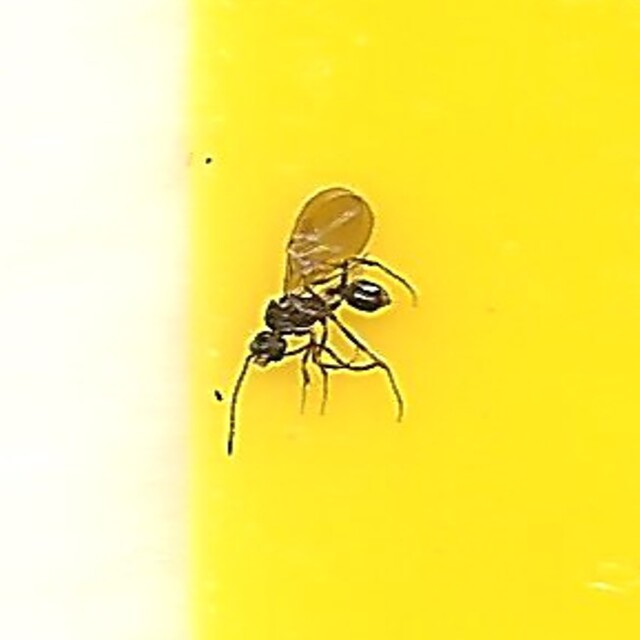Hymenoptera: (221, 186, 419, 454)
